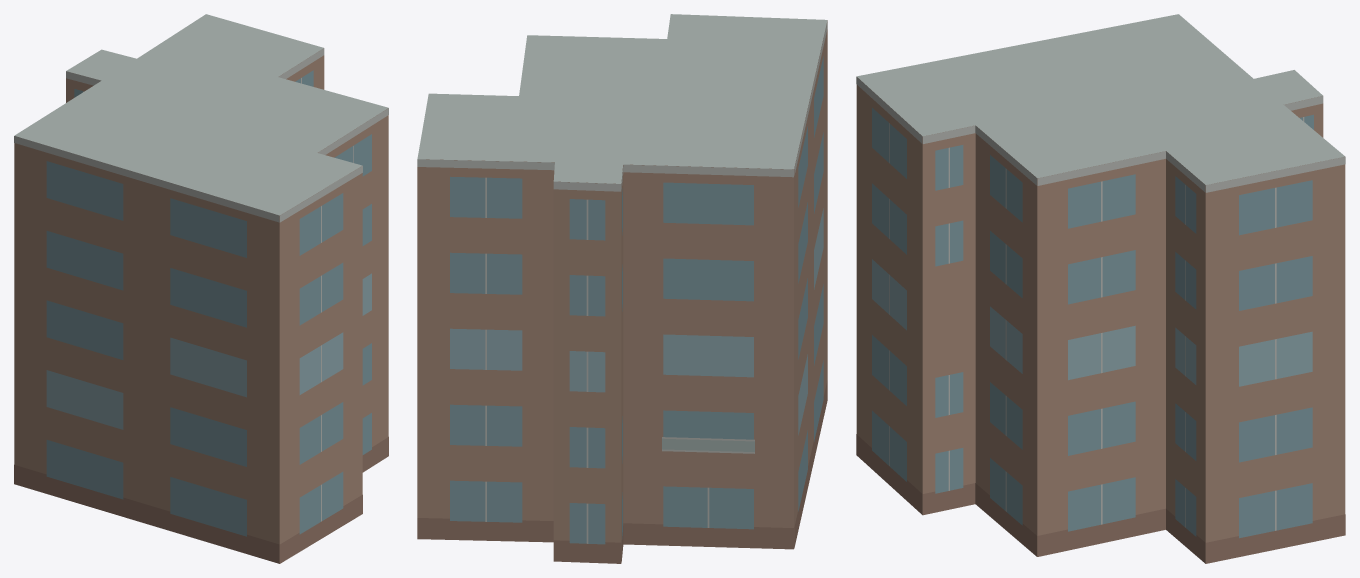
The model's file is survey-upis-32734364.glb.
3 renders of one model, left to right at view 1: azimuth 30°, elevation 25°; view 2: azimuth 150°, elevation 25°; view 3: azimuth 270°, elevation 25°, orthographic. The views are drawn at different scales.
Visible parts, largest first — view 1: survey-upis-32734364.tmp; view 2: survey-upis-32734364.tmp; view 3: survey-upis-32734364.tmp.
Part boxes in pixels (left/top/right/bottom): survey-upis-32734364.tmp: left=14, top=14, right=388, bottom=563; survey-upis-32734364.tmp: left=417, top=14, right=827, bottom=563; survey-upis-32734364.tmp: left=856, top=14, right=1345, bottom=563.
Size of the model in its own units: 11.54 by 11.9 by 13.94.
